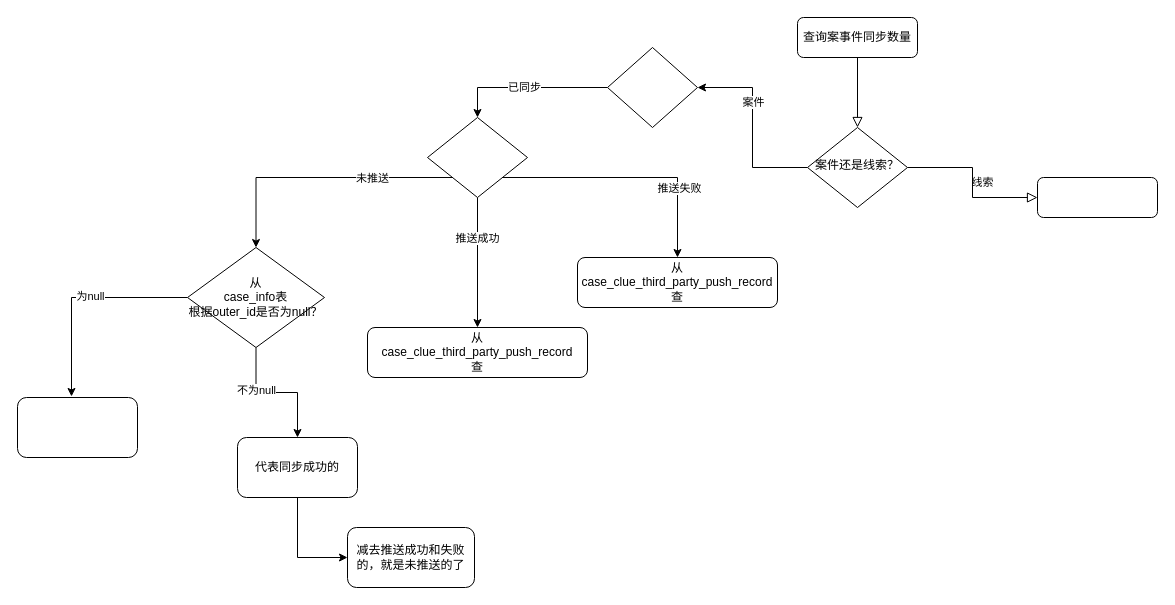
The diagram is 1175 pixels wide and 605 high, and some of its shapes have lost their labels. The centre of each missing label's shape, as x and y in pixels:
Plug in lamp: (1097,197)
不计入统计: (77,427)
案件推送类型: (477,157)
案件是否已同步？: (652,87)
